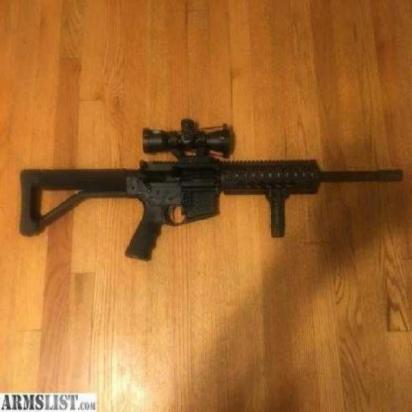Gun: (16, 104, 406, 287)
